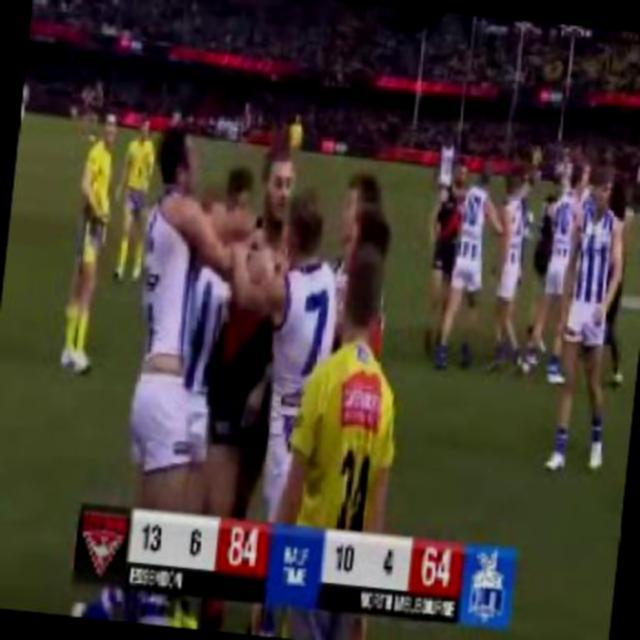fight: (174, 135, 351, 520)
